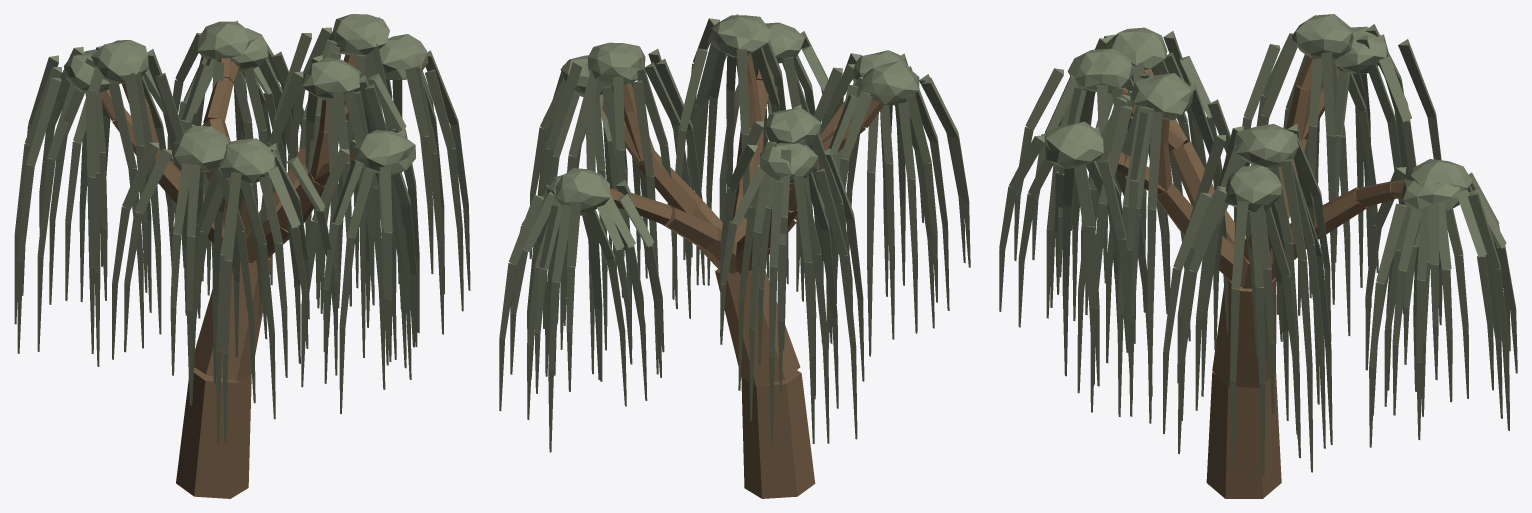
3 renders of one model, left to right at view 1: azimuth 30°, elevation 25°; view 2: azimuth 150°, elevation 25°; view 3: azimuth 270°, elevation 25°, orthographic. The views are drawn at different scales.
Parts seen in each view (by area): view 1: K12a; view 2: K12a; view 3: K12a.
Part boxes in pixels (box(x1,y1,x2,y2)): K12a: box(14, 14, 470, 498); K12a: box(499, 14, 970, 498); K12a: box(999, 14, 1517, 498).
Size of the model in its own units: 7.42 by 7.91 by 8.29.
